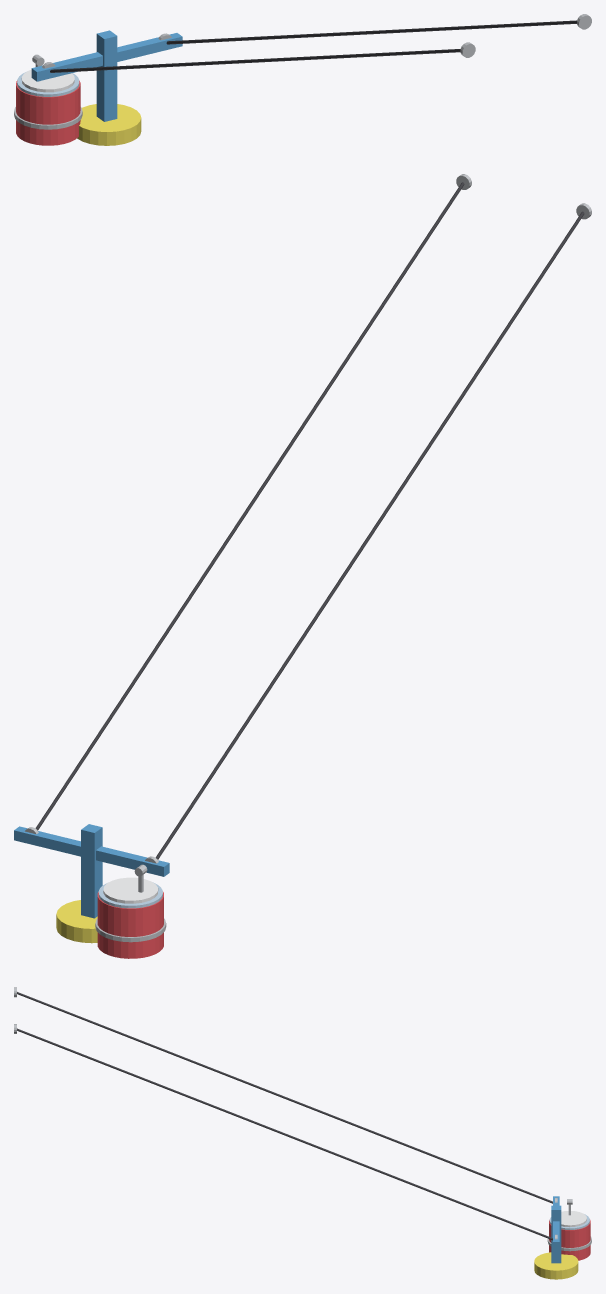
File: state-fair-skyride-end-beam.glb
3 renders of one model, top to bottom at view 1: azimuth 30°, elevation 25°; view 2: azimuth 150°, elevation 25°; view 3: azimuth 270°, elevation 25°, orthographic. The views are drawn at different scales.
Visible parts, largest first — view 1: SRE_CabinBody, SRE_Base, SRE_LoadBeam, SRE_LoadPole, SRE_Cable1, SRE_Cable0, SRE_CabinRoof, SRE_CabinGlass, SRE_CabinBumper, SRE_TipSheave0; view 2: SRE_CabinBody, SRE_Cable0, SRE_Cable1, SRE_LoadBeam, SRE_LoadPole, SRE_Base, SRE_CabinRoof; view 3: SRE_Cable1, SRE_Cable0, SRE_Base, SRE_CabinBody, SRE_LoadPole.
Part boxes in pixels (x1,y1,x2,y2): SRE_CabinBody: [16, 80, 80, 145]; SRE_Base: [77, 104, 141, 145]; SRE_LoadBeam: [31, 33, 182, 81]; SRE_LoadPole: [96, 30, 117, 121]; SRE_Cable1: [166, 20, 576, 44]; SRE_Cable0: [50, 49, 460, 72]; SRE_CabinRoof: [21, 69, 74, 92]; SRE_CabinGlass: [17, 72, 79, 96]; SRE_CabinBumper: [14, 107, 82, 129]; SRE_TipSheave0: [460, 42, 475, 57]; SRE_CabinBody: [97, 892, 163, 958]; SRE_Cable0: [155, 211, 584, 859]; SRE_Cable1: [35, 182, 464, 830]; SRE_LoadBeam: [14, 826, 169, 876]; SRE_LoadPole: [81, 824, 102, 918]; SRE_Base: [56, 900, 97, 943]; SRE_CabinRoof: [103, 877, 158, 903]; SRE_Cable1: [17, 1028, 552, 1240]; SRE_Cable0: [17, 992, 552, 1203]; SRE_Base: [534, 1252, 578, 1279]; SRE_CabinBody: [549, 1220, 590, 1260]; SRE_LoadPole: [551, 1205, 561, 1263].
Bounding box in the file's own units: 4.57 × 11.85 × 23.51.
